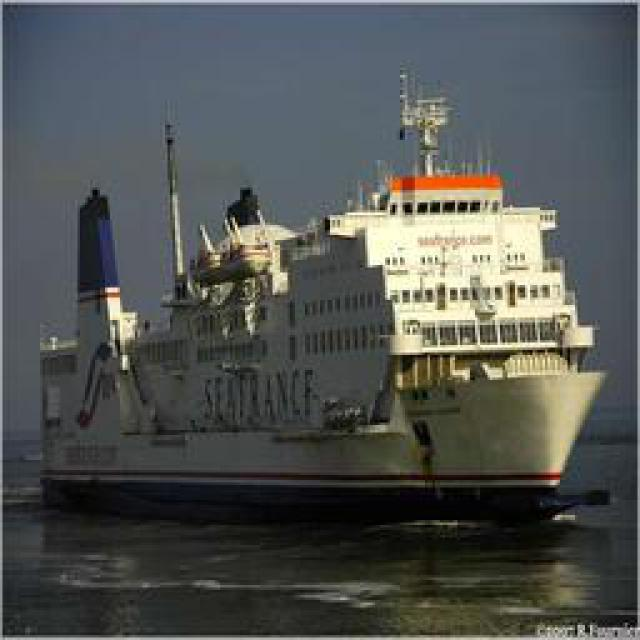Ship: (33, 92, 621, 512)
